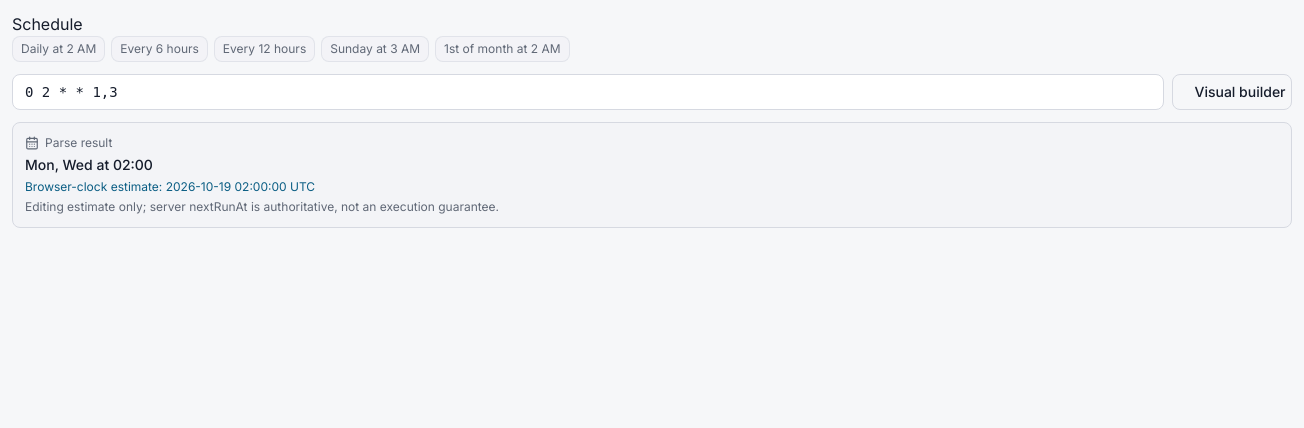
Test: CronGenerator preview › opening builder for 0 2 * * 1,3 does not rewrite the schedule
The width and height of the screenshot is (1304, 428).
Click the button "Visual builder": (1232, 92) x1=1172 y1=74 x2=1292 y2=110
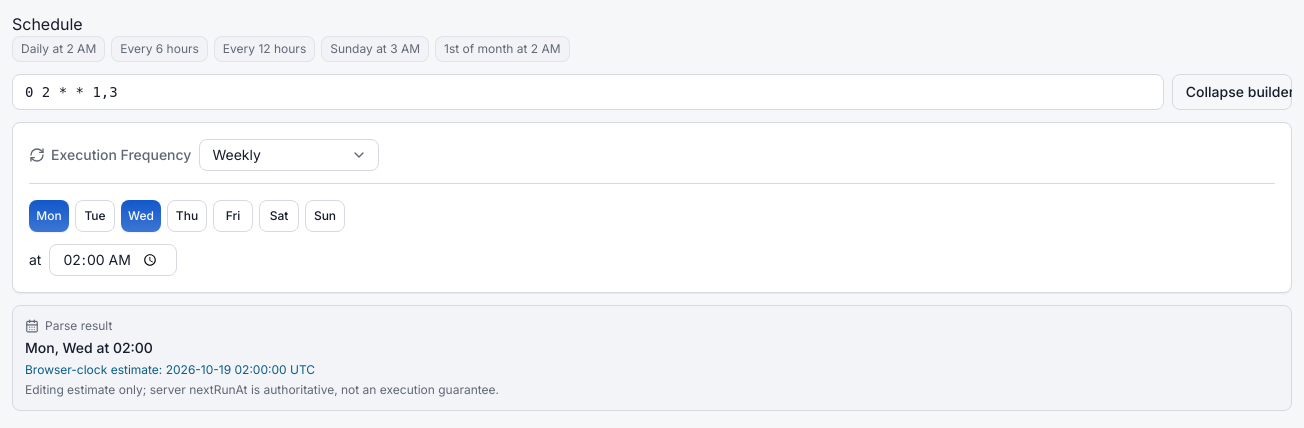
Expected: the field labelled "Schedule" holds "0 2 * * 1,3", x1=12 y1=74 x2=1164 y2=110
Expected: the dropdown named "Execution Frequency" shows "Weekly", x1=199 y1=139 x2=379 y2=171
